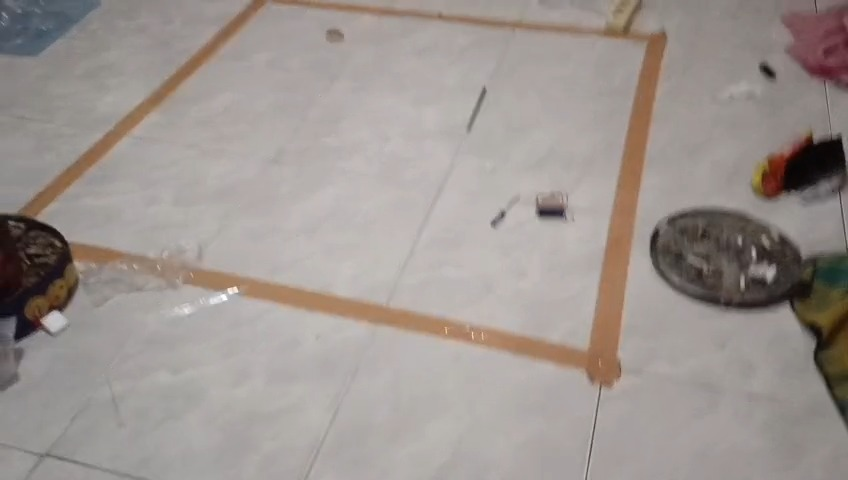floor marking: (186, 0, 666, 387), (20, 0, 268, 216), (72, 243, 154, 265)
